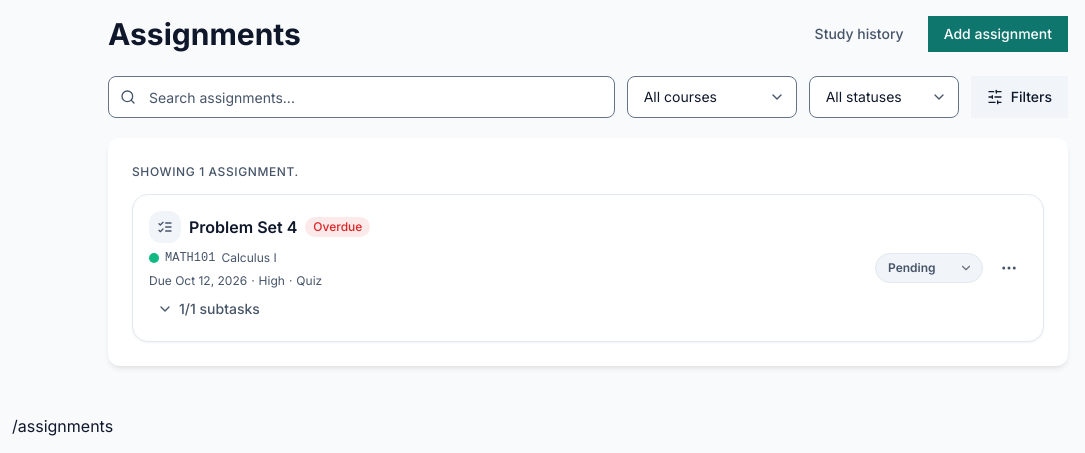
Test case: AssignmentsPage shared interaction (SP-124B AC 8) › links the course meta slot to the course page
This screenshot has width=1085, height=453.
Expected: the button "Problem Set 4" is shown, [189,215,297,239]
Click the link with aria-label "View course: Calculus I".
click(213, 258)  # box [149,250,277,266]
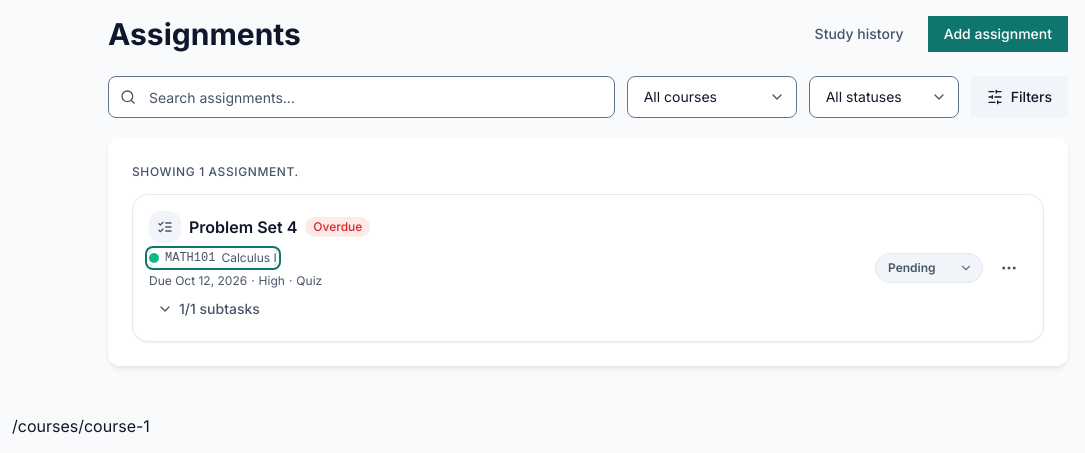
Expected: the text with test id "location" reads "/courses/course-1", [12,416,150,436]
